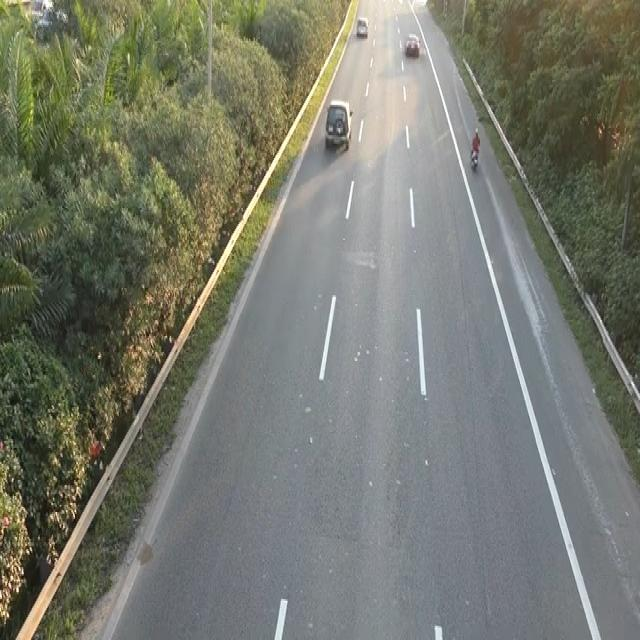bus: (403, 30, 420, 57)
car: (322, 96, 356, 156)
minibus: (468, 142, 479, 171)
